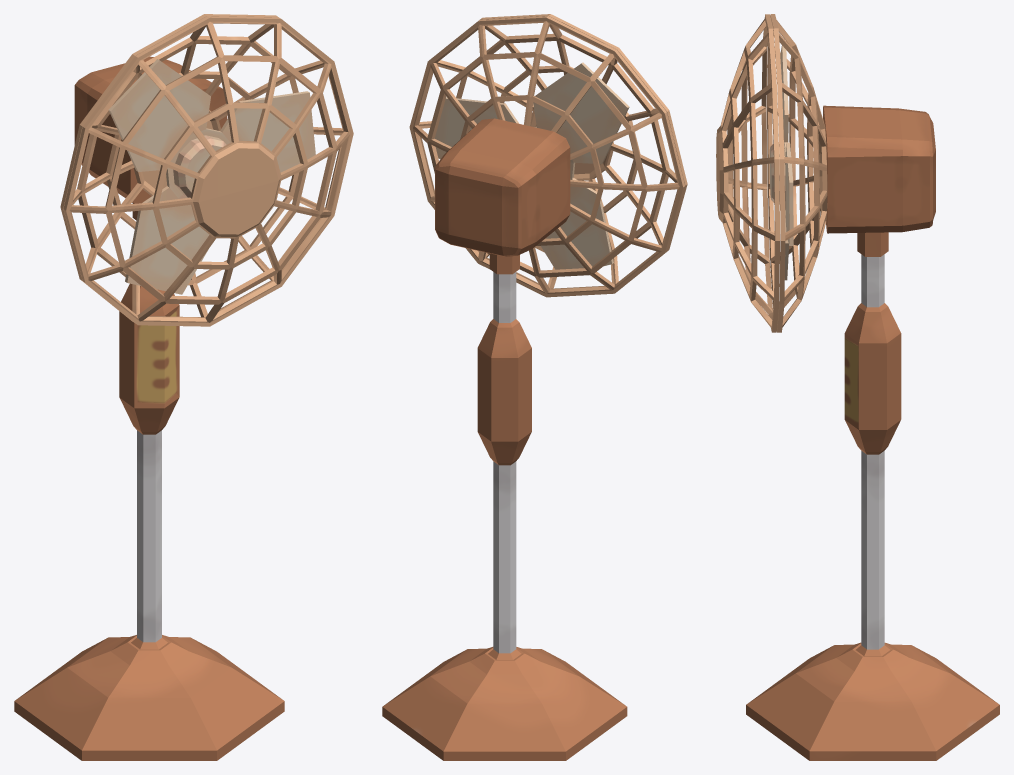
File: stand_fan.fbx
The picture shows the model from 3 angles, left to right: view 1: azimuth 30°, elevation 25°; view 2: azimuth 150°, elevation 25°; view 3: azimuth 270°, elevation 25°; orthographic projection. The views are drawn at different scales.
Visible parts, largest first — view 1: motor, Cylinder, blades; view 2: motor, Cylinder, blades; view 3: Cylinder, motor, blades.
Part boxes in pixels (bbox=[...]): motor: bbox=[60, 14, 353, 326]; Cylinder: bbox=[14, 203, 284, 760]; blades: bbox=[108, 59, 315, 294]; motor: bbox=[409, 14, 687, 297]; Cylinder: bbox=[382, 253, 627, 760]; blades: bbox=[434, 62, 629, 269]; Cylinder: bbox=[746, 232, 999, 760]; motor: bbox=[716, 14, 935, 332]; blades: bbox=[769, 45, 793, 280].
Bounding box in the file's own units: 211 × 502 × 187.
